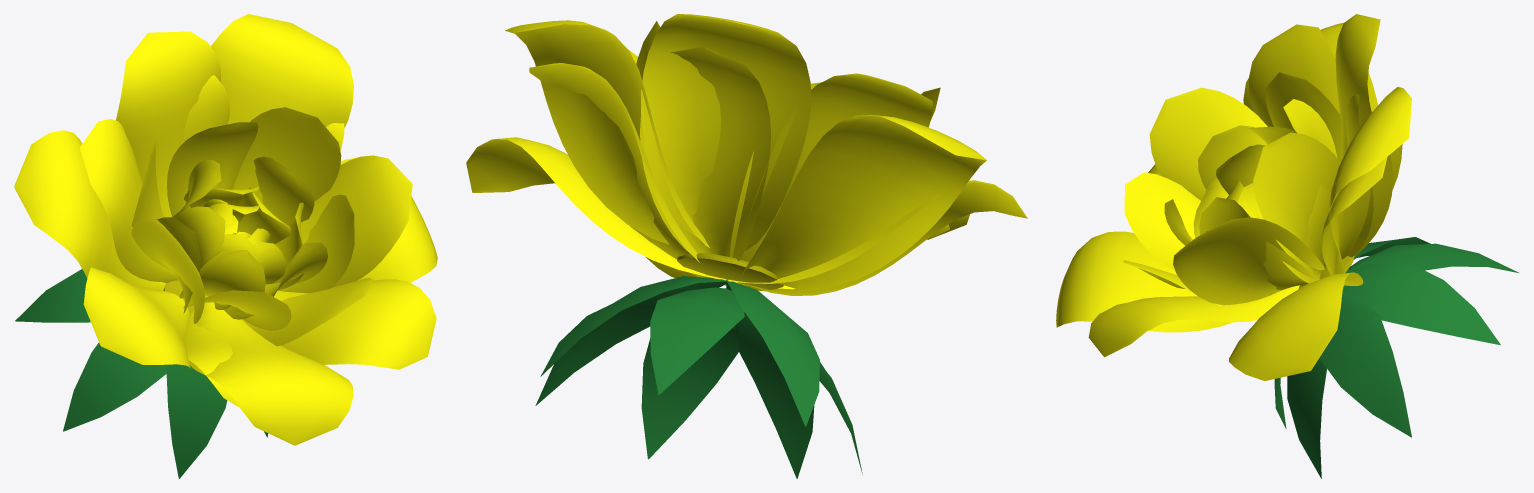
The model's file is FLOWERyellow.fbx.
3 renders of one model, left to right at view 1: azimuth 30°, elevation 25°; view 2: azimuth 150°, elevation 25°; view 3: azimuth 270°, elevation 25°, orthographic. The views are drawn at different scales.
Parts seen in each view (by area): view 1: Roses_Orange.007; view 2: Roses_Orange.007; view 3: Roses_Orange.007.
Boxes of the visible parts, x1=… form: Roses_Orange.007: x1=14, y1=14, x2=437, y2=478; Roses_Orange.007: x1=466, y1=14, x2=1027, y2=478; Roses_Orange.007: x1=1056, y1=14, x2=1518, y2=478.
Bounding box in the file's own units: 145 × 139 × 140.
